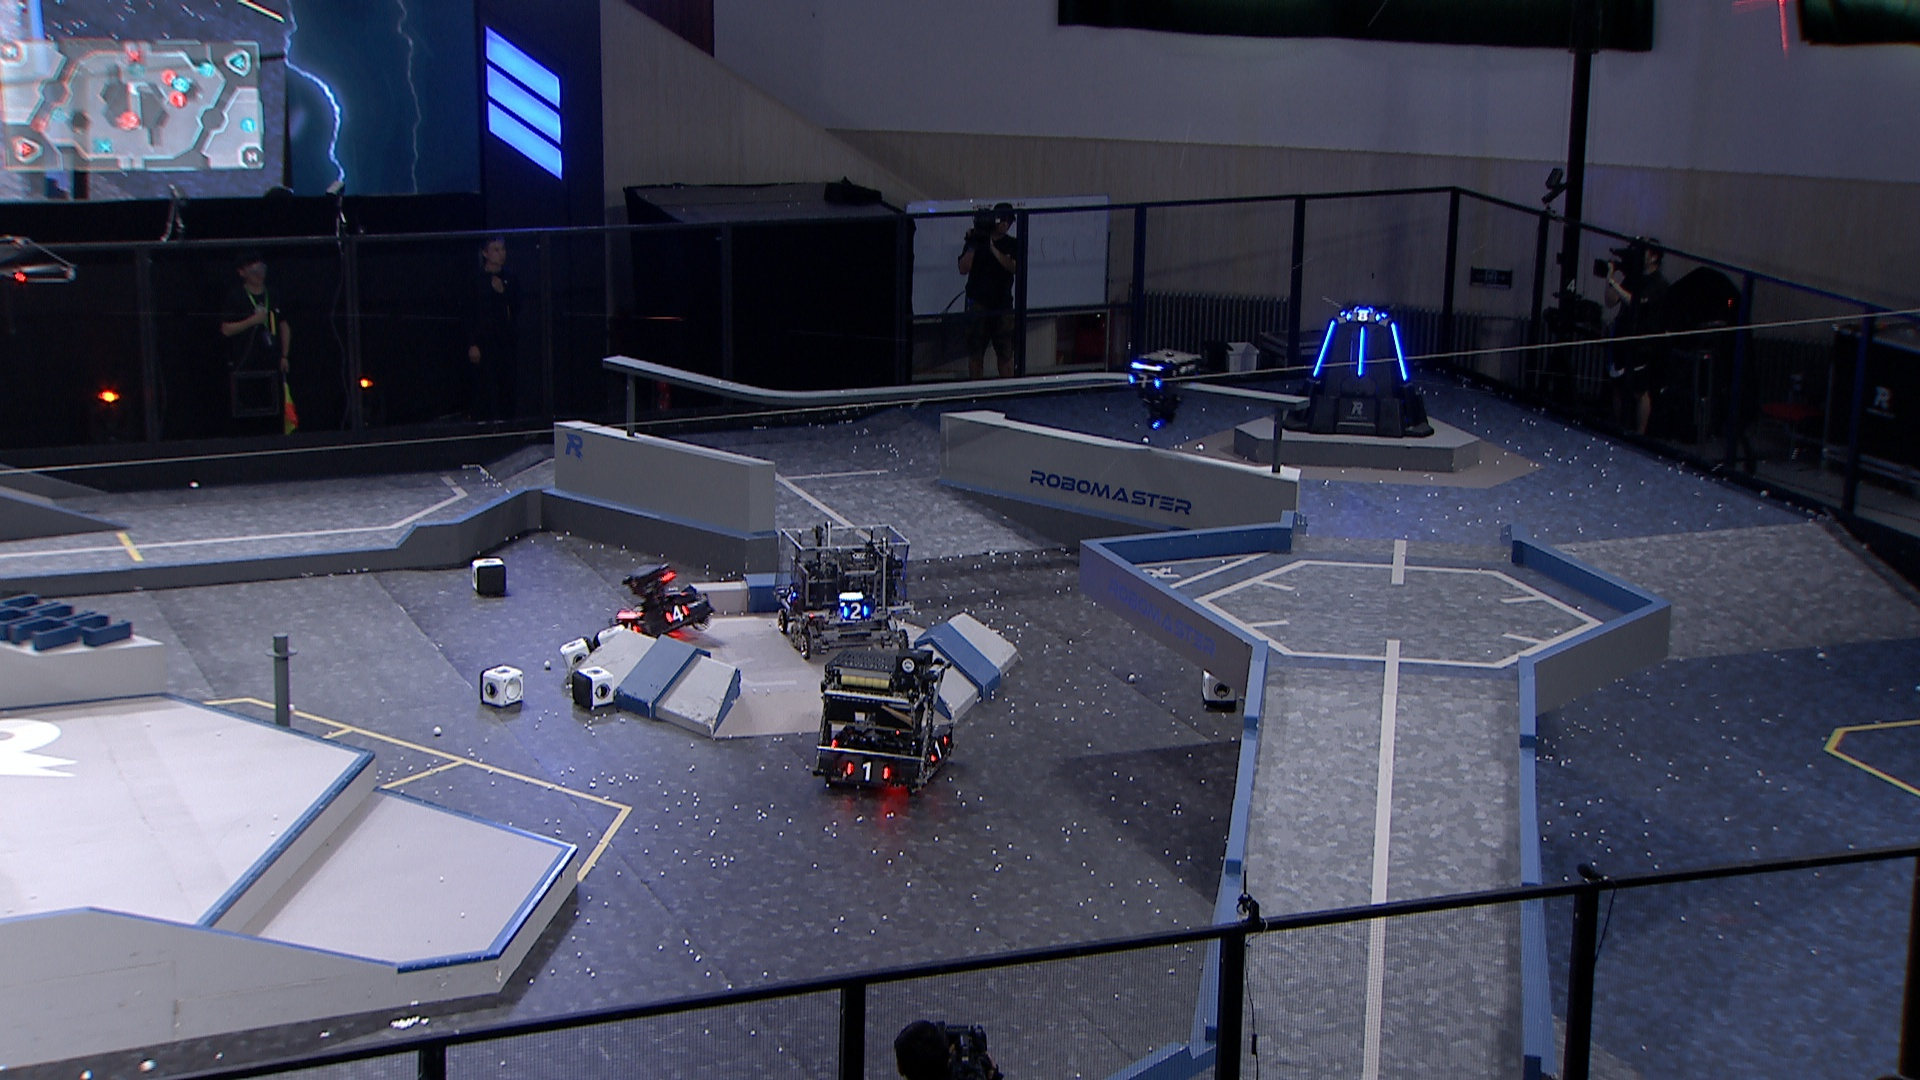armor: (1309, 320, 1338, 380), (1389, 319, 1410, 384), (844, 761, 893, 782), (1127, 372, 1162, 392), (1356, 324, 1367, 380), (927, 736, 951, 764), (662, 603, 692, 622), (841, 603, 870, 622), (1346, 310, 1385, 324), (781, 585, 798, 604)
base: (1276, 306, 1437, 440)
car: (807, 650, 957, 798), (771, 518, 913, 665), (605, 560, 716, 640)
watcher: (1125, 348, 1197, 429)
